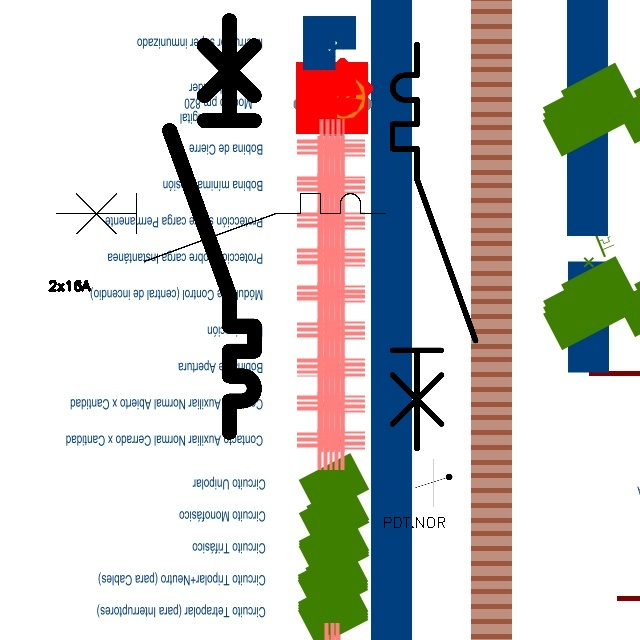interruptor_termomagnetico: (159, 10, 265, 443), (382, 34, 486, 458), (48, 185, 394, 270)
